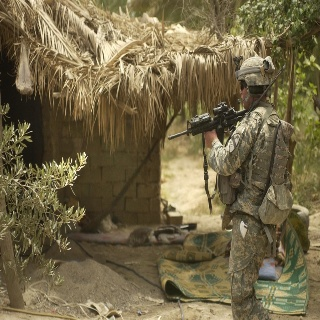rifle: (167, 102, 250, 148)
